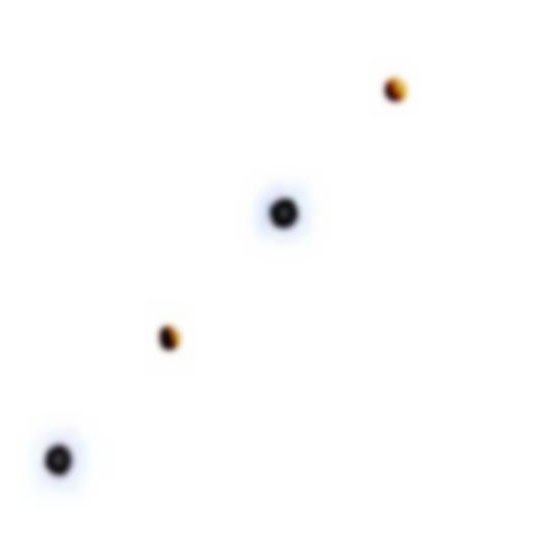cancer: (234, 165, 325, 248), (22, 422, 103, 496)
normal: (361, 59, 440, 135), (149, 309, 210, 371)
